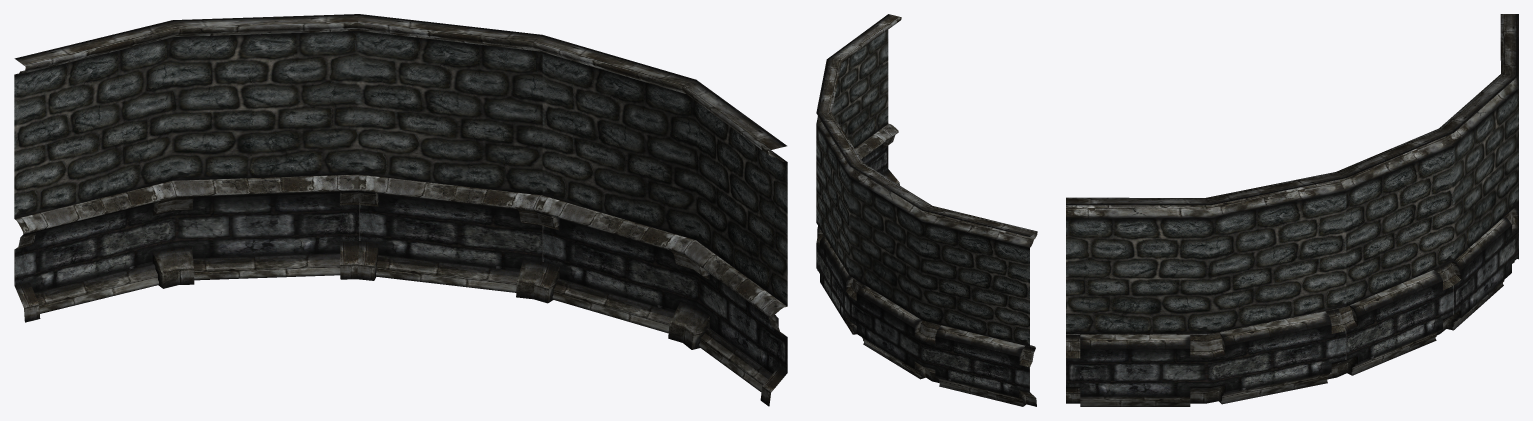
Rendered from corner_concave_round_stairs.dae.
The picture shows the model from 3 angles, left to right: view 1: azimuth 30°, elevation 25°; view 2: azimuth 150°, elevation 25°; view 3: azimuth 270°, elevation 25°; orthographic projection. The views are drawn at different scales.
Visible parts, largest first — view 1: polySurface115; view 2: polySurface115; view 3: polySurface115.
Boxes of the visible parts, box(x1,y1,x2,y2) form: polySurface115: box(14, 14, 787, 406); polySurface115: box(816, 14, 1037, 406); polySurface115: box(1066, 14, 1518, 406).
Bounding box in the file's own units: 8 × 4 × 8.
